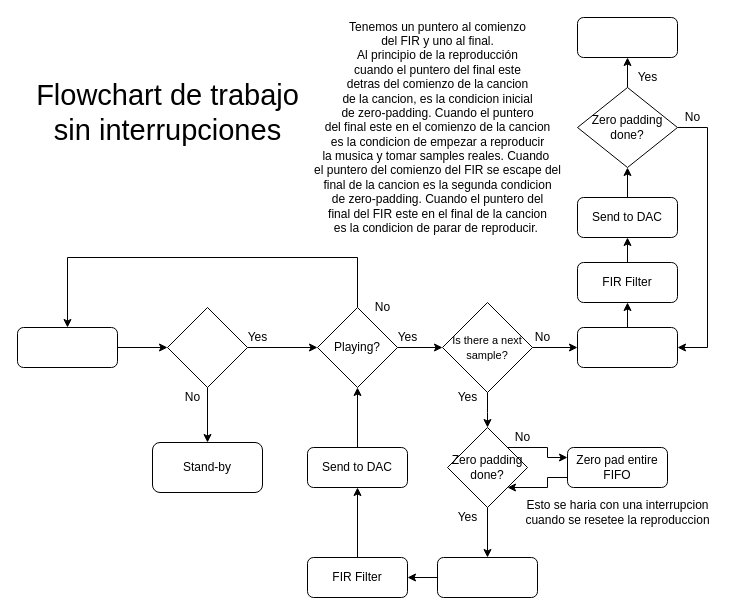
This 735x615 diagram has some shape labels left out. Here are the shapes that lost their labels. From the top down, the centre of each, then its label:
point (627, 37): Stop playing
point (67, 347): Start
point (207, 347): Sd metida?
point (627, 347): Add zero to FIFO
point (487, 577): Add sample to FIFO
